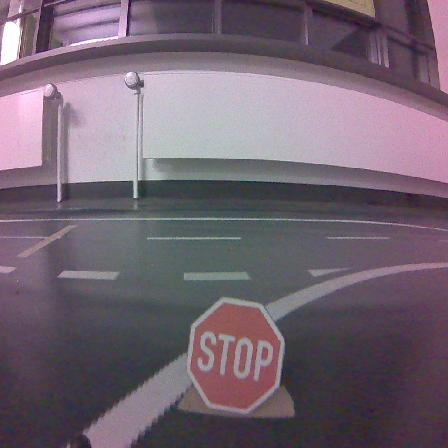STOP: (187, 298, 284, 413)
